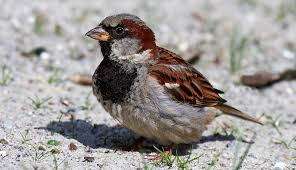hsparrow: (83, 8, 266, 155)
